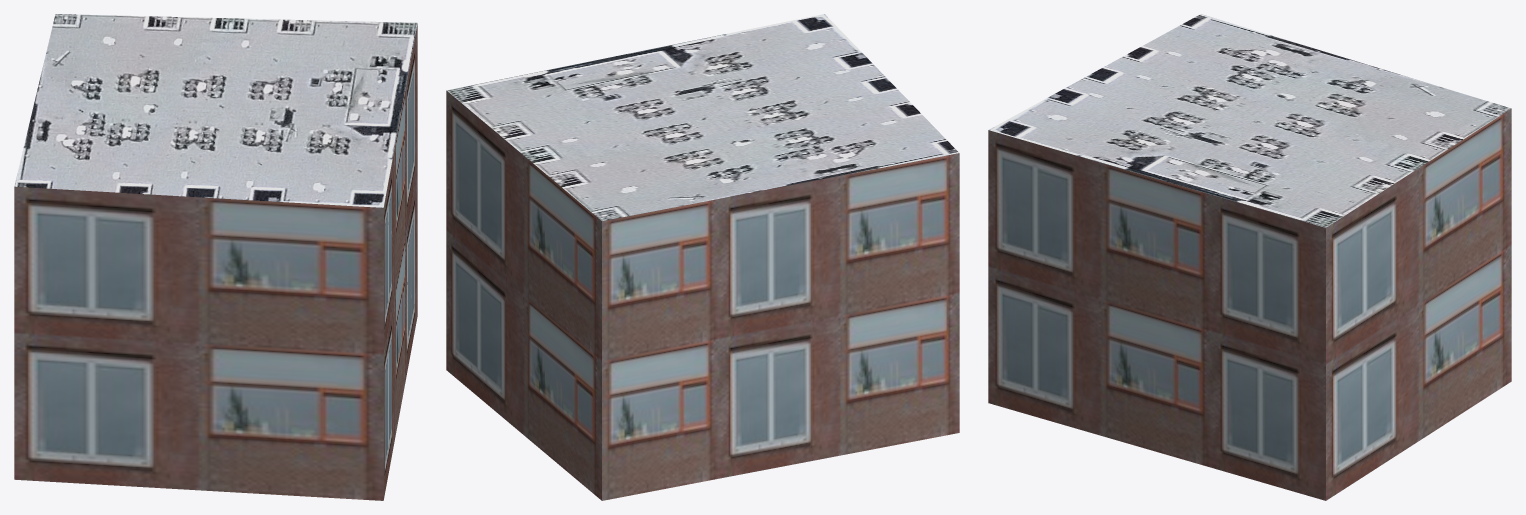
File: ResTex__4599.fbx
3 views of the same model, side by side, from view 1: azimuth 30°, elevation 25°; view 2: azimuth 150°, elevation 25°; view 3: azimuth 270°, elevation 25° (orthographic). The views are drawn at different scales.
Visible parts, largest first — view 1: CityEngineMaterial_19_m, CityEngineMaterial_15_m; view 2: CityEngineMaterial_19_m, CityEngineMaterial_15_m; view 3: CityEngineMaterial_19_m, CityEngineMaterial_15_m.
Boxes of the visible parts, x1,y1,x2,y2 form: CityEngineMaterial_19_m: (14, 24, 417, 500); CityEngineMaterial_15_m: (14, 14, 417, 207); CityEngineMaterial_19_m: (446, 90, 959, 500); CityEngineMaterial_15_m: (446, 14, 959, 220); CityEngineMaterial_19_m: (988, 108, 1511, 500); CityEngineMaterial_15_m: (989, 14, 1511, 227).
Size of the model in its own units: 10.08 by 6 by 10.42.
Materials: 2 (2 with a texture image).
